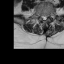CCS_stenosis: (43, 14, 45, 22)
LFS_normal: (47, 12, 49, 18)
LLS_normal: (45, 13, 47, 21)
RFS_stenosis: (39, 12, 41, 19)
RLS_normal: (41, 14, 43, 21)
